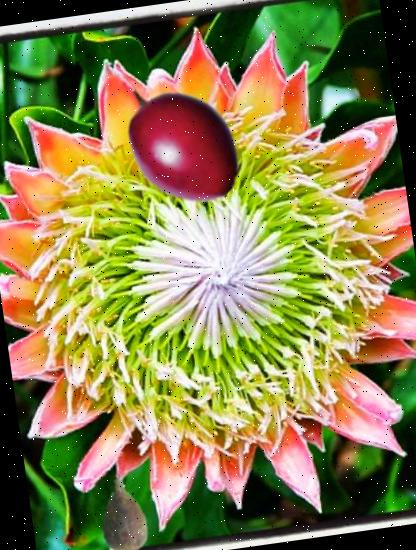Beetroot: (76, 470, 170, 550)
Tamarillo: (101, 65, 258, 222)
